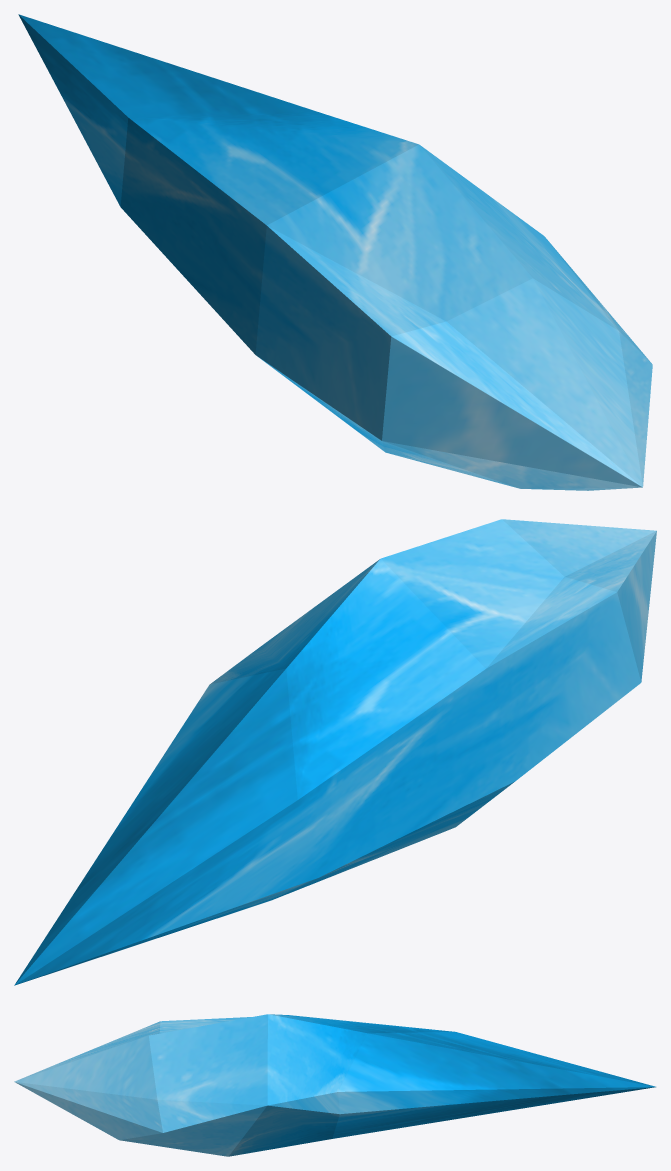
Rendered from FXMesh_Ice_A.FBX.
The picture shows the model from 3 angles, top to bottom: view 1: azimuth 30°, elevation 25°; view 2: azimuth 150°, elevation 25°; view 3: azimuth 270°, elevation 25°; orthographic projection. The views are drawn at different scales.
Parts seen in each view (by area): view 1: FXMesh_Ice_A; view 2: FXMesh_Ice_A; view 3: FXMesh_Ice_A.
Part boxes in pixels (bbox=[...]): FXMesh_Ice_A: bbox=[18, 14, 652, 490]; FXMesh_Ice_A: bbox=[14, 519, 656, 985]; FXMesh_Ice_A: bbox=[14, 1014, 655, 1156].
Bounding box in the file's own units: 19.77 × 78.24 × 18.71.
